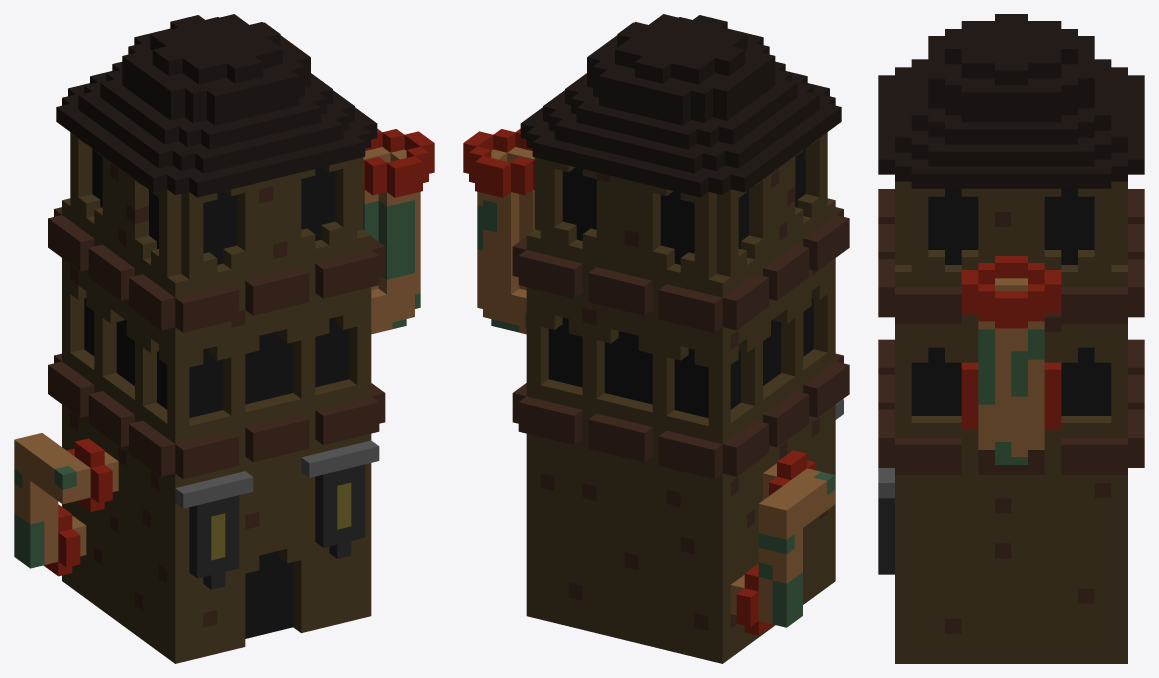
The model's file is House 2 Mod.obj.
3 views of the same model, side by side, from view 1: azimuth 30°, elevation 25°; view 2: azimuth 150°, elevation 25°; view 3: azimuth 270°, elevation 25° (orthographic). The views are drawn at different scales.
Bounding box in the file's own units: 2.6 × 3.8 × 1.6.
1 material, 1 textured.
